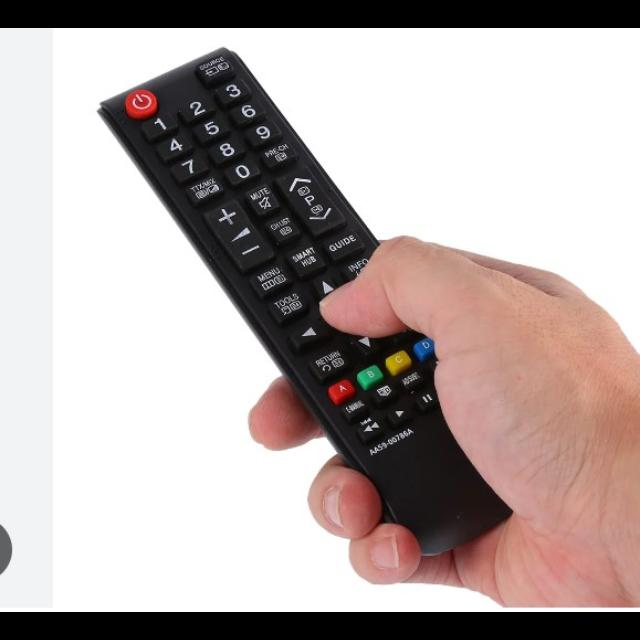TV-Remote-Control: (96, 48, 514, 562)
